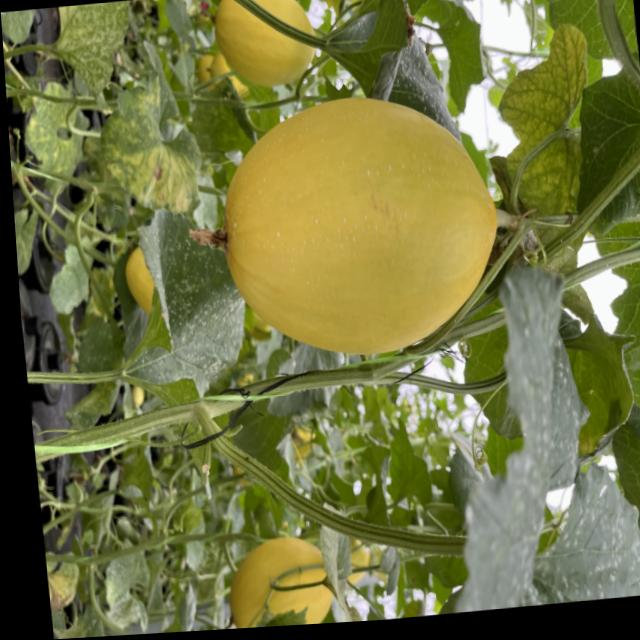downy mildew: (487, 16, 610, 245), (87, 29, 208, 222), (48, 0, 145, 117)
healthy: (619, 355, 640, 595)
powdery mildew: (111, 205, 270, 512), (318, 0, 467, 162)
